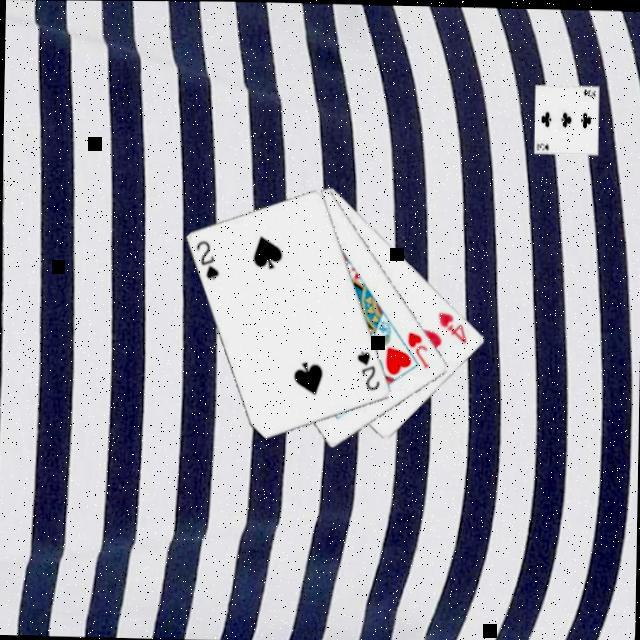2S: (354, 344, 386, 392), (194, 234, 225, 280)
4H: (436, 305, 472, 344)
JH: (405, 326, 434, 368)
